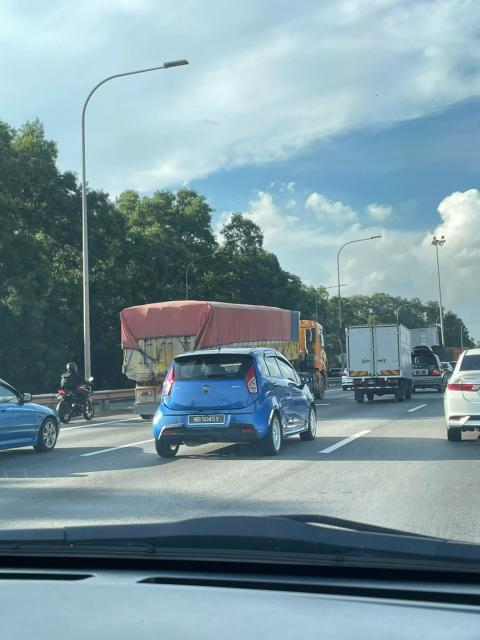License_Plate: (184, 410, 228, 430)
car: (153, 337, 320, 458)
lorry: (115, 296, 329, 413), (346, 324, 415, 402)
motorcycle: (51, 359, 101, 427)
